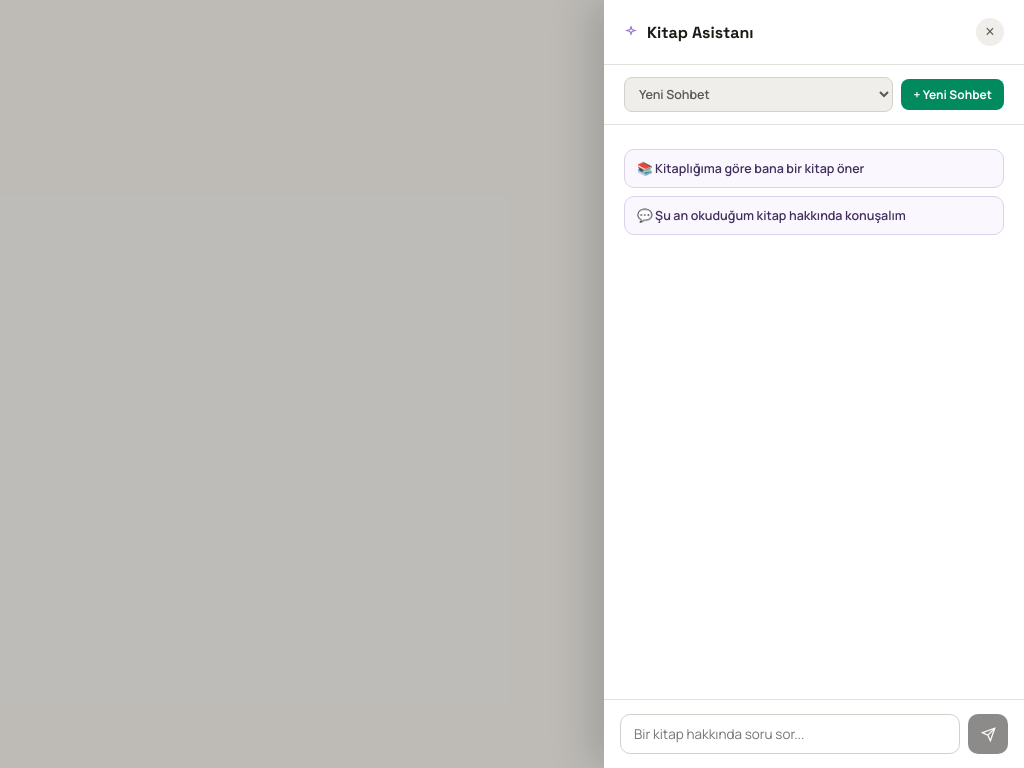
Test: AiChatDrawer › shows the generic error message for any other failure, not the quota notice
Step 1. Type "Merhaba" into the field with placeholder "Bir kitap hakkında soru sor..." → point(790, 734), box [620,714,960,754]
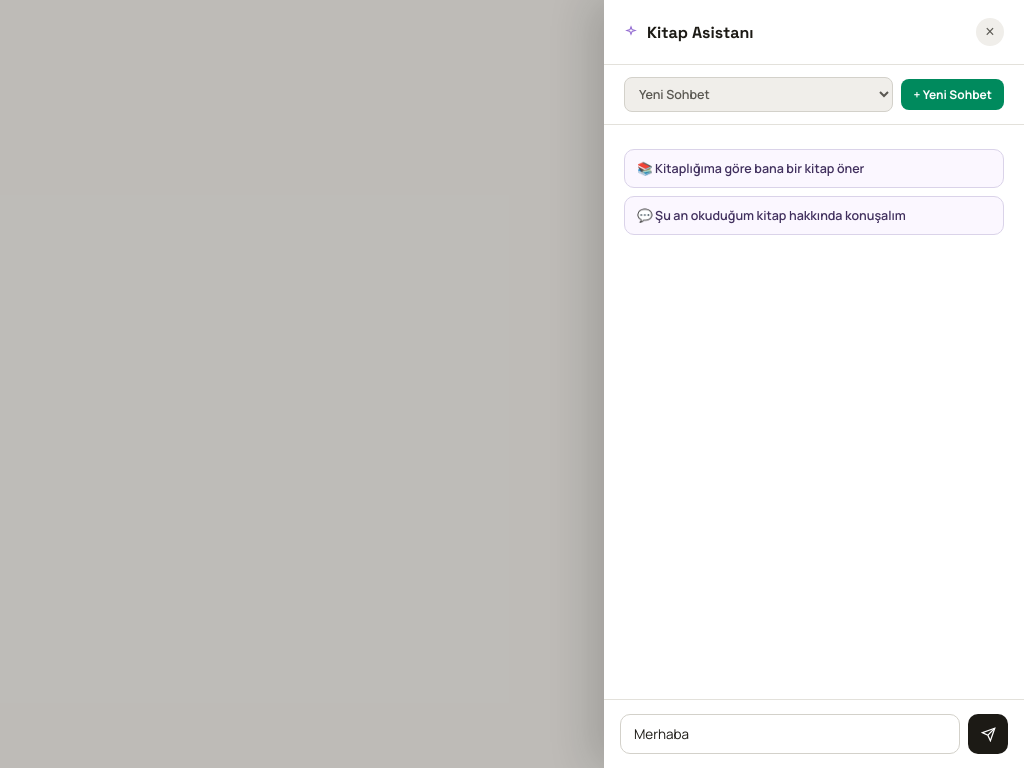
Step 2. Click the button named "Gönder" → point(988, 734), box [968,714,1008,754]
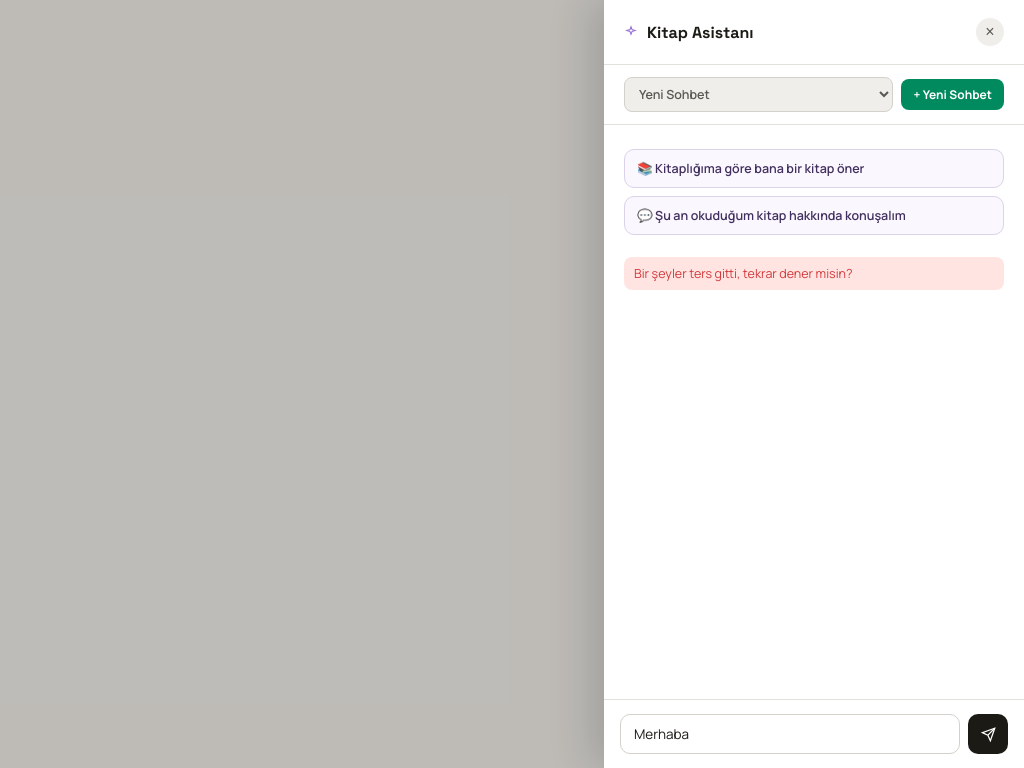
Expected: the field with placeholder "Bir kitap hakkında soru sor..." is enabled, [620,714,960,754]
Expected: the text "Bir şeyler ters gitti, tekrar dener misin?" is shown, [624,257,1004,290]
